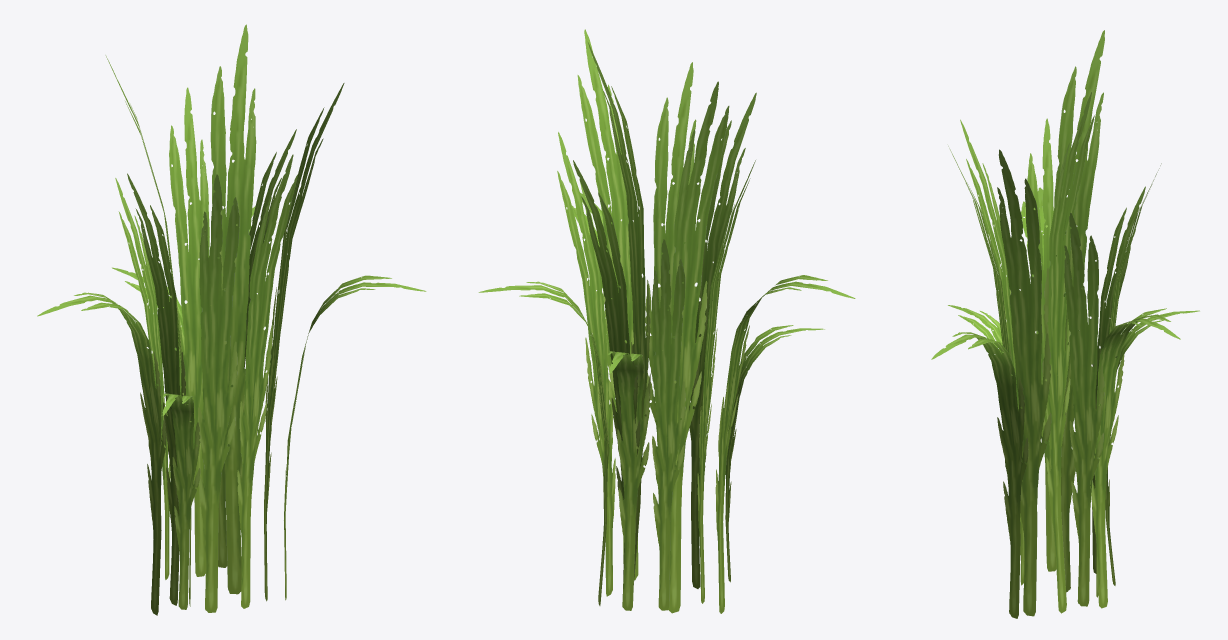
Rendered from SM_ENV_plant_ancient_06.fbx.
3 renders of one model, left to right at view 1: azimuth 30°, elevation 25°; view 2: azimuth 150°, elevation 25°; view 3: azimuth 270°, elevation 25°, orthographic. The views are drawn at different scales.
Visible parts, largest first — view 1: SM_ENV_plant_ancient_06_LOD0; view 2: SM_ENV_plant_ancient_06_LOD0; view 3: SM_ENV_plant_ancient_06_LOD0.
Boxes of the visible parts, x1=… form: SM_ENV_plant_ancient_06_LOD0: x1=37, y1=24, x2=426, y2=615; SM_ENV_plant_ancient_06_LOD0: x1=478, y1=29, x2=855, y2=613; SM_ENV_plant_ancient_06_LOD0: x1=931, y1=30, x2=1199, y2=618.
Bounding box in the file's own units: 92.64 × 136 × 69.88.
